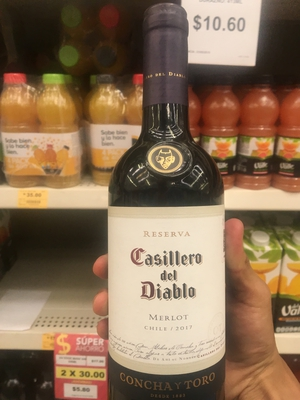casillero del diablo merlot: (93, 8, 241, 393)
